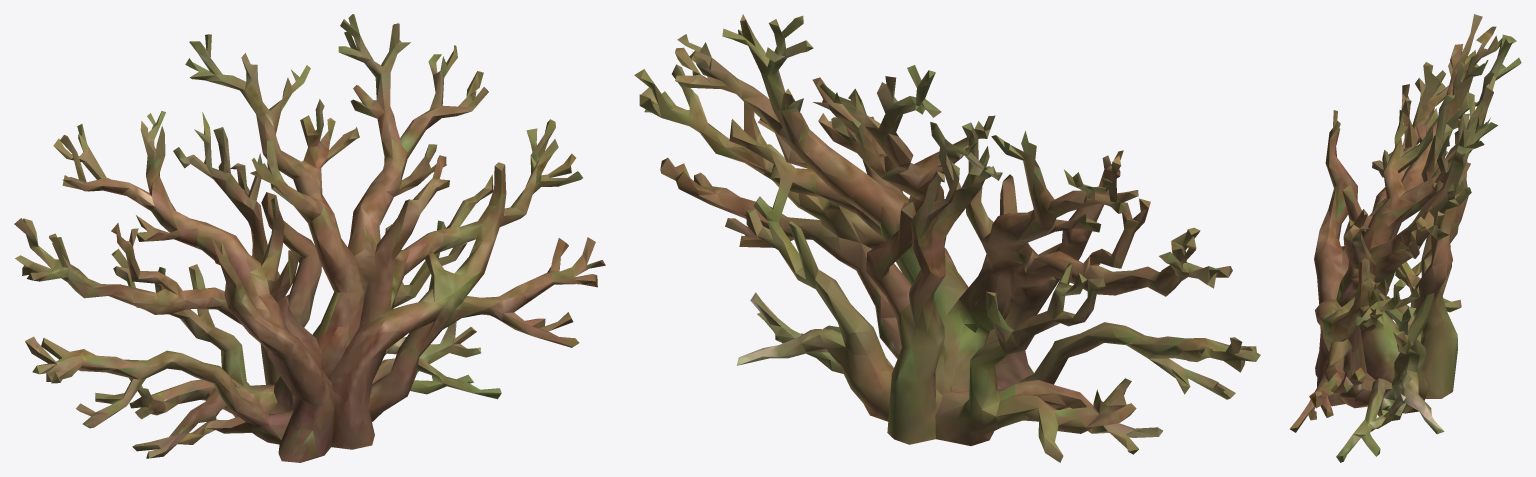
Rendered from seto_seco_20261019_150714_4k.glb.
3 renders of one model, left to right at view 1: azimuth 30°, elevation 25°; view 2: azimuth 150°, elevation 25°; view 3: azimuth 270°, elevation 25°, orthographic. The views are drawn at different scales.
Parts seen in each view (by area): view 1: seto_seco_malla; view 2: seto_seco_malla; view 3: seto_seco_malla.
Boxes of the visible parts, <box> form: seto_seco_malla: <box>14,14,605,462</box>; seto_seco_malla: <box>634,14,1260,462</box>; seto_seco_malla: <box>1290,14,1521,462</box>.
Size of the model in its own units: 0.2897 by 0.1827 by 0.115.
1 material, 1 textured.
